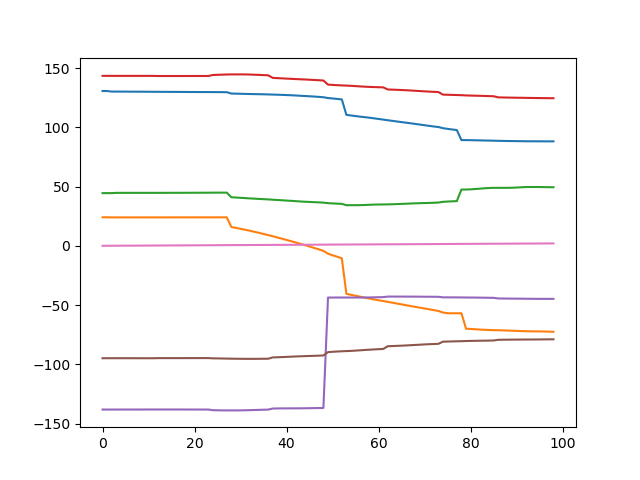Good_Bicep_Curl: (3, 4, 640, 480)
